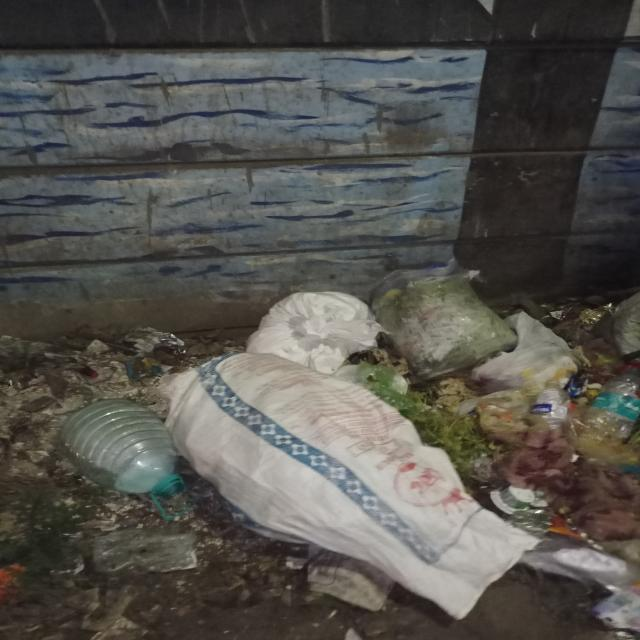garbage: (4, 289, 640, 640)
